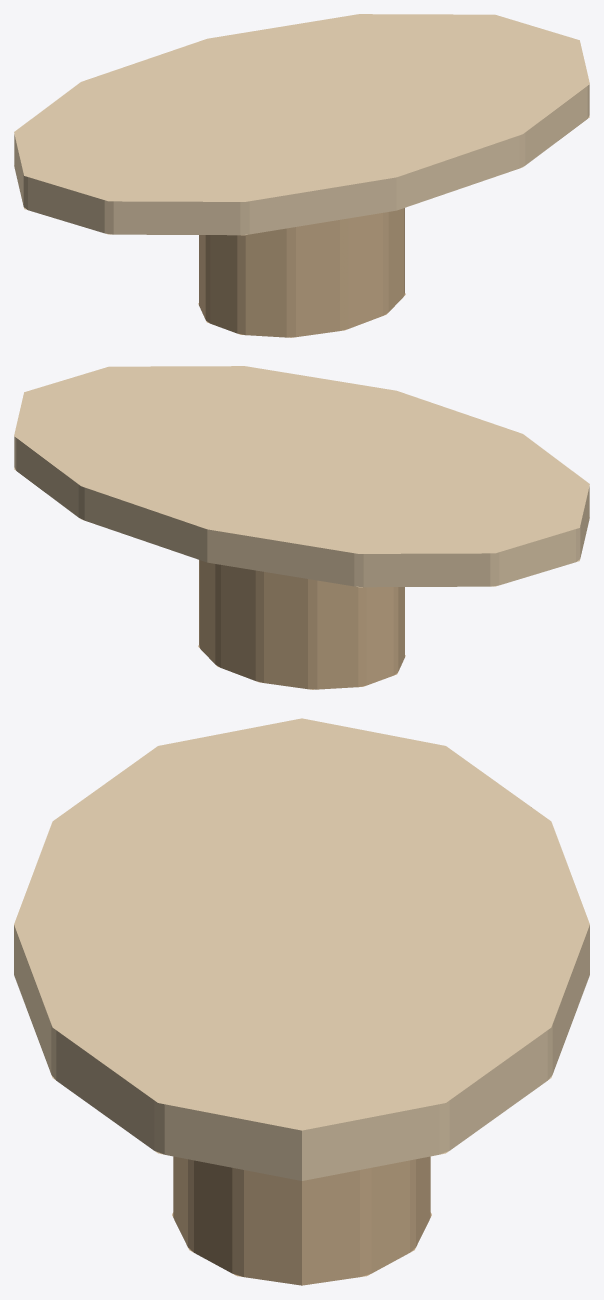
File: coffee_table.glb
The picture shows the model from 3 angles, top to bottom: view 1: azimuth 30°, elevation 25°; view 2: azimuth 150°, elevation 25°; view 3: azimuth 270°, elevation 25°; orthographic projection. The views are drawn at different scales.
Parts seen in each view (by area): view 1: coffee_table_oak_light_0, coffee_table_oak_1; view 2: coffee_table_oak_light_0, coffee_table_oak_1; view 3: coffee_table_oak_light_0, coffee_table_oak_1.
Part boxes in pixels (x1=…): coffee_table_oak_light_0: x1=14, y1=14, x2=589, y2=235; coffee_table_oak_1: x1=198, y1=208, x2=405, y2=337; coffee_table_oak_light_0: x1=14, y1=366, x2=589, y2=587; coffee_table_oak_1: x1=198, y1=560, x2=405, y2=689; coffee_table_oak_light_0: x1=14, y1=718, x2=589, y2=1180; coffee_table_oak_1: x1=172, y1=1156, x2=431, y2=1285.
Size of the model in its own units: 1.05 by 0.345 by 0.62.
